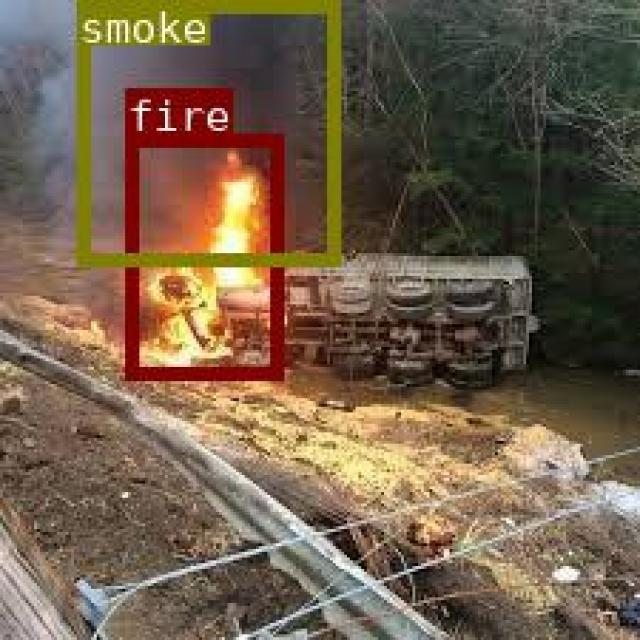fire: (124, 132, 279, 378)
smoke: (75, 0, 337, 262)
